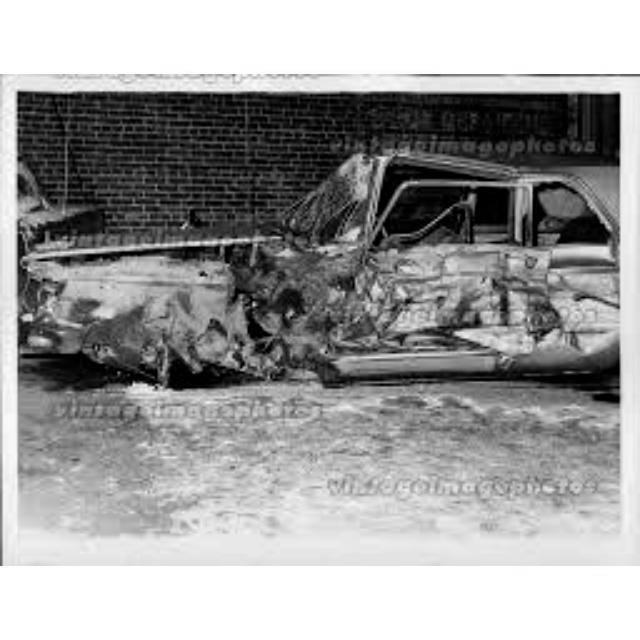Front-windscreen-damage: (290, 152, 355, 239)
doorouter-dent: (376, 237, 521, 367)
